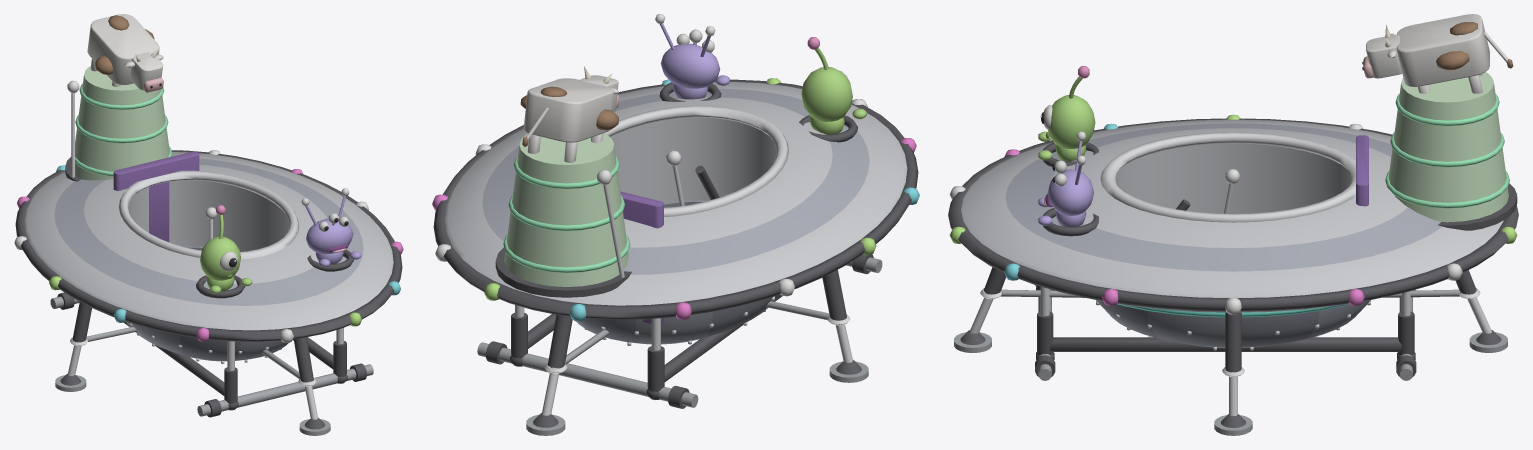
File: saucer.glb
3 views of the same model, side by side, from view 1: azimuth 30°, elevation 25°; view 2: azimuth 150°, elevation 25°; view 3: azimuth 270°, elevation 25° (orthographic). The views are drawn at different scales.
Parts seen in each view (by area): view 1: saucer; view 2: saucer; view 3: saucer.
Boxes of the visible parts, left/top/right/bottom form: saucer: left=14, top=14, right=403, bottom=435; saucer: left=432, top=14, right=919, bottom=435; saucer: left=948, top=14, right=1518, bottom=435.
Bounding box in the file's own units: 1.75 × 1.38 × 2.21.
